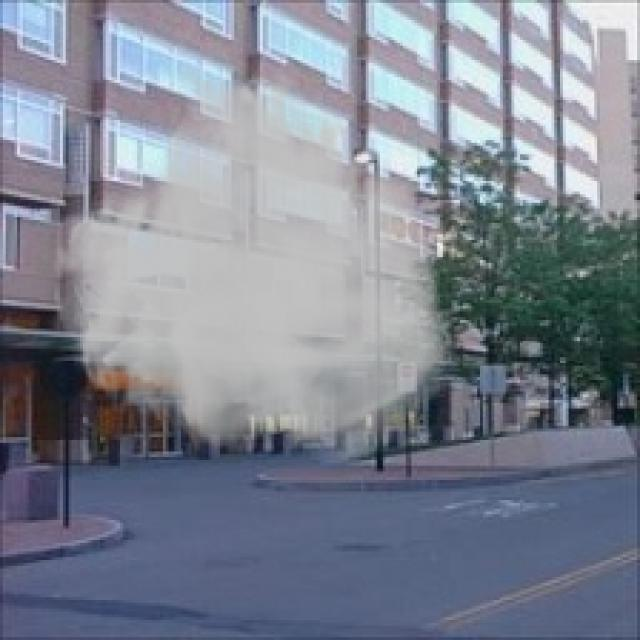Smoke: (49, 54, 458, 469)
